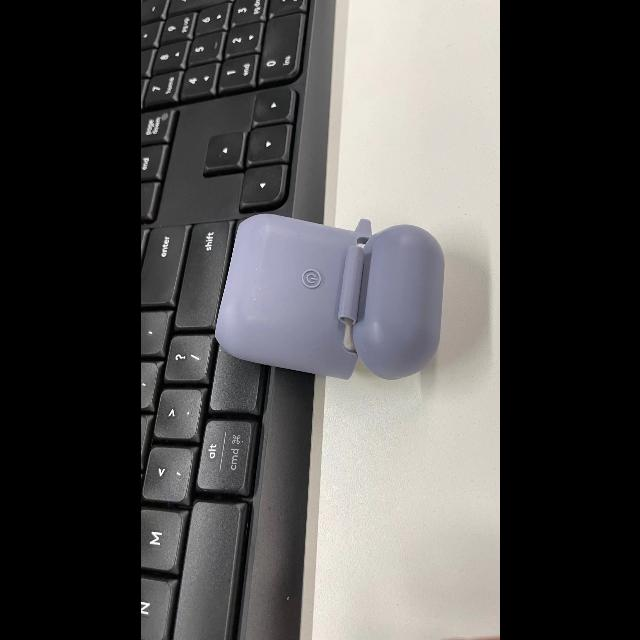airpods: (212, 212, 441, 378)
